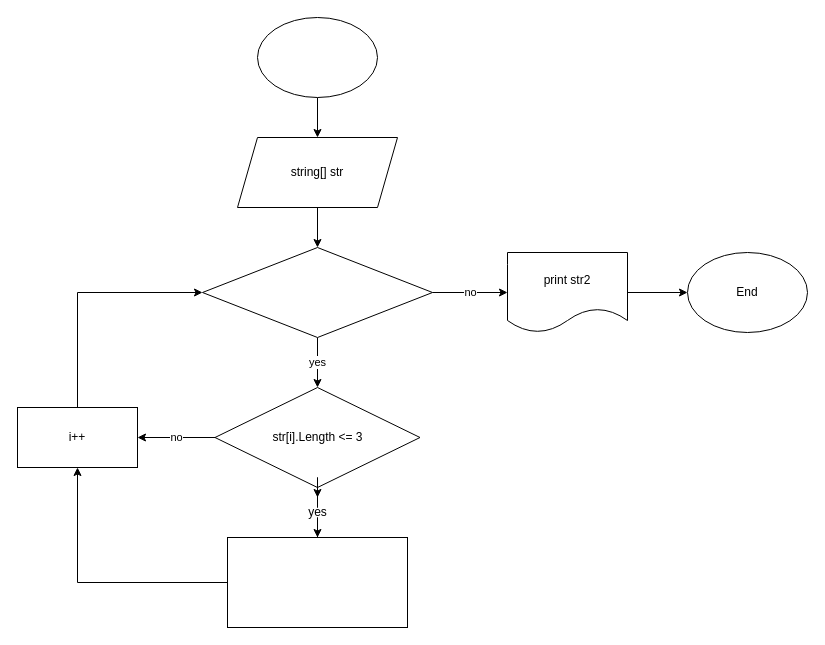
Image size: 825x645. Some labels were removed from this diagram. The box of each missing label's shape, as (x1, y1, x2, y2) in pixels:
i < str.Length: (202, 246, 432, 338)
Start: (256, 16, 378, 98)
str2[j] = str[i] j++: (226, 536, 408, 628)
